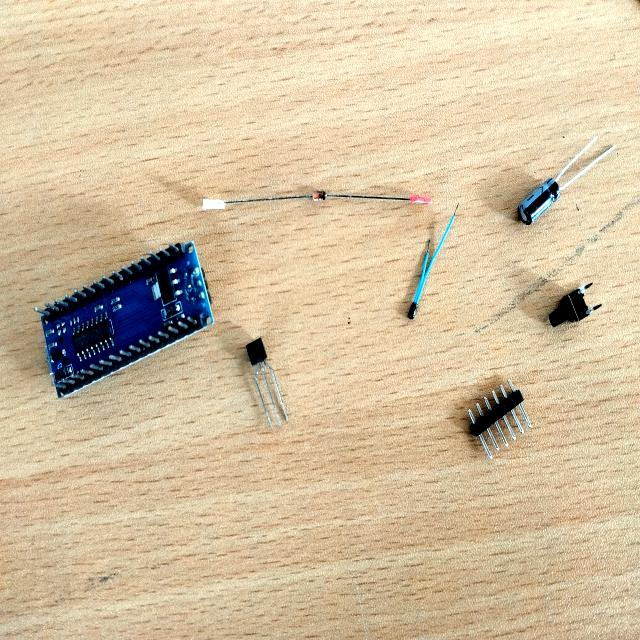capacitor: (517, 180, 558, 224)
